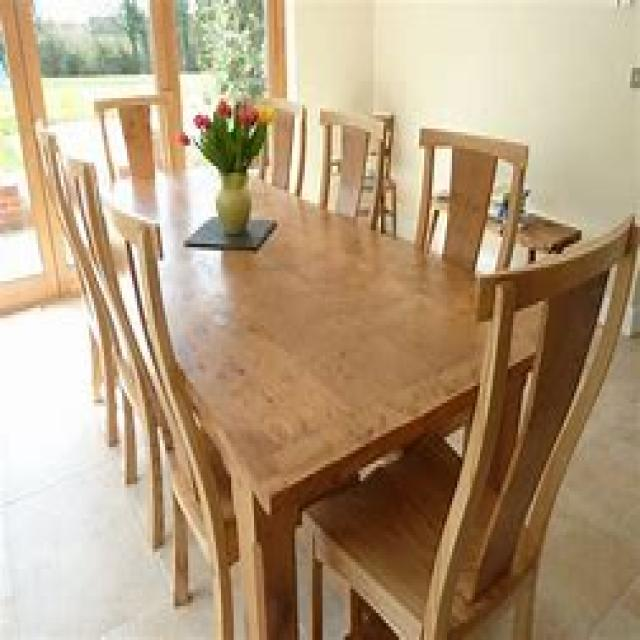chair: (297, 210, 638, 637), (251, 95, 305, 196)
table: (96, 159, 572, 637)
